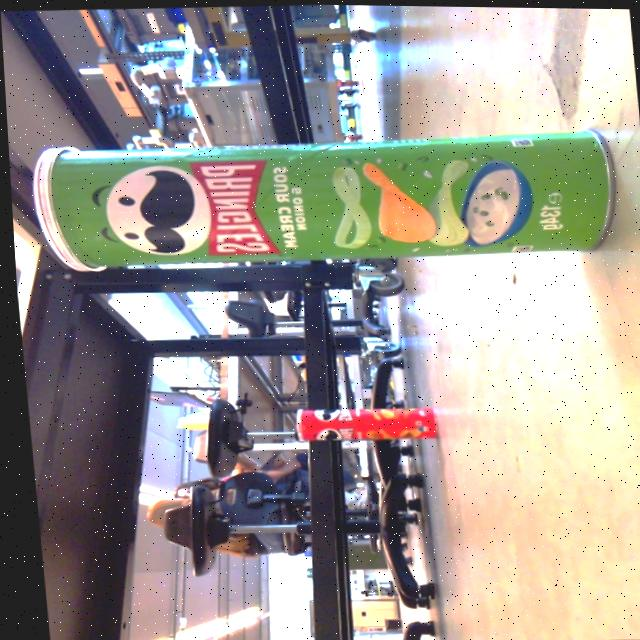greenpringles: (23, 96, 621, 297)
redpringles: (279, 383, 446, 459)
